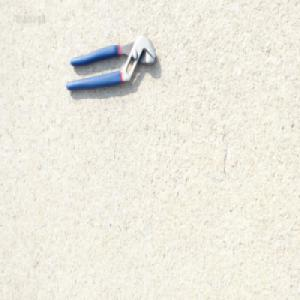Pliers: (65, 33, 158, 95)
